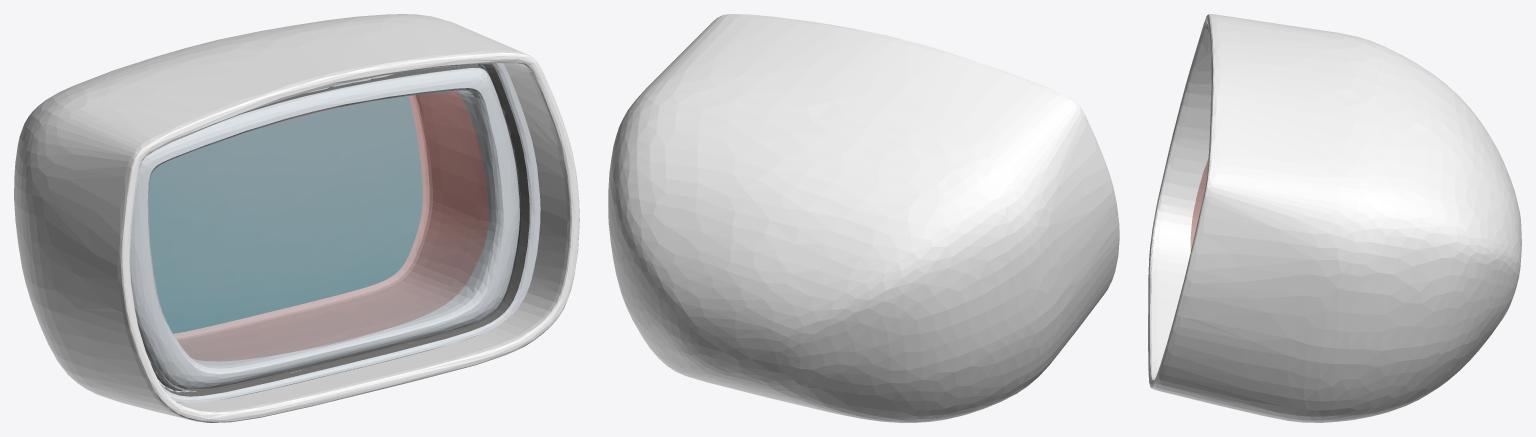
File: head.glb
3 views of the same model, side by side, from view 1: azimuth 30°, elevation 25°; view 2: azimuth 150°, elevation 25°; view 3: azimuth 270°, elevation 25° (orthographic). The views are drawn at different scales.
Visible parts, largest first — view 1: HEAD; view 2: HEAD; view 3: HEAD.
Boxes of the visible parts, x1=… form: HEAD: x1=14, y1=14, x2=579, y2=422; HEAD: x1=608, y1=14, x2=1119, y2=422; HEAD: x1=1148, y1=14, x2=1521, y2=422.
Size of the model in its own units: 3.14 by 2.1 by 2.51.
